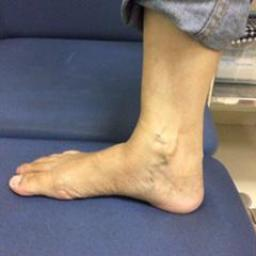Medial View -Right Foot-: (6, 90, 218, 218)
